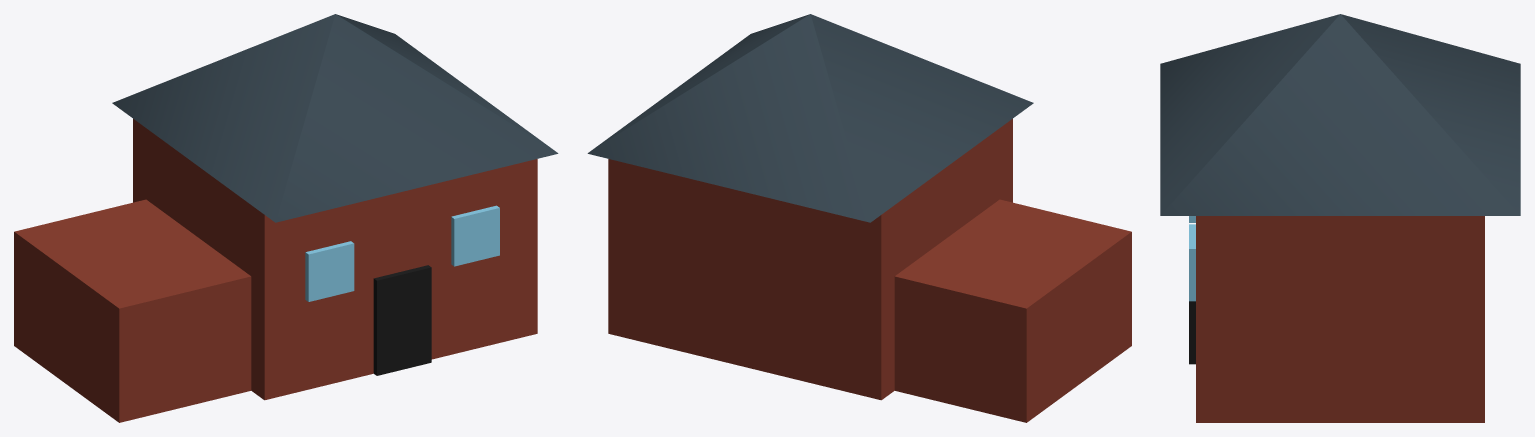
File: demo-house.glb
3 renders of one model, left to right at view 1: azimuth 30°, elevation 25°; view 2: azimuth 150°, elevation 25°; view 3: azimuth 270°, elevation 25°, orthographic. The views are drawn at different scales.
Size of what is drawn, in the model's own units: 4.51 by 3.2 by 3.11.
